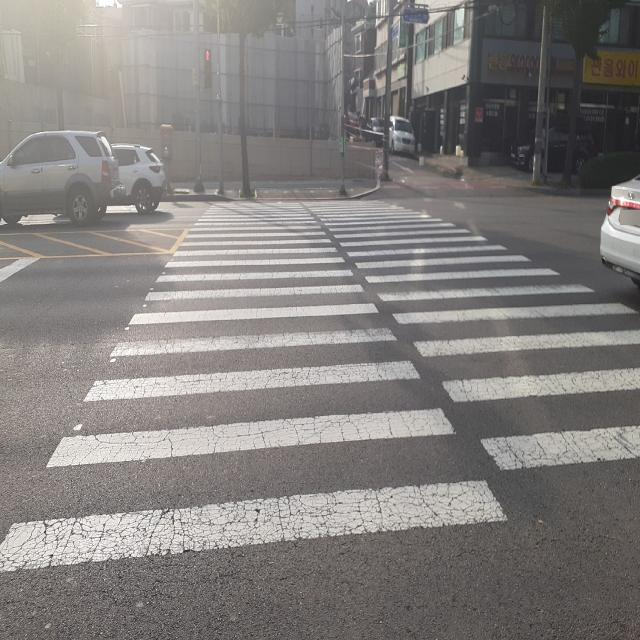빨간불: (205, 51, 212, 90)
횡단보도: (0, 199, 640, 578)
